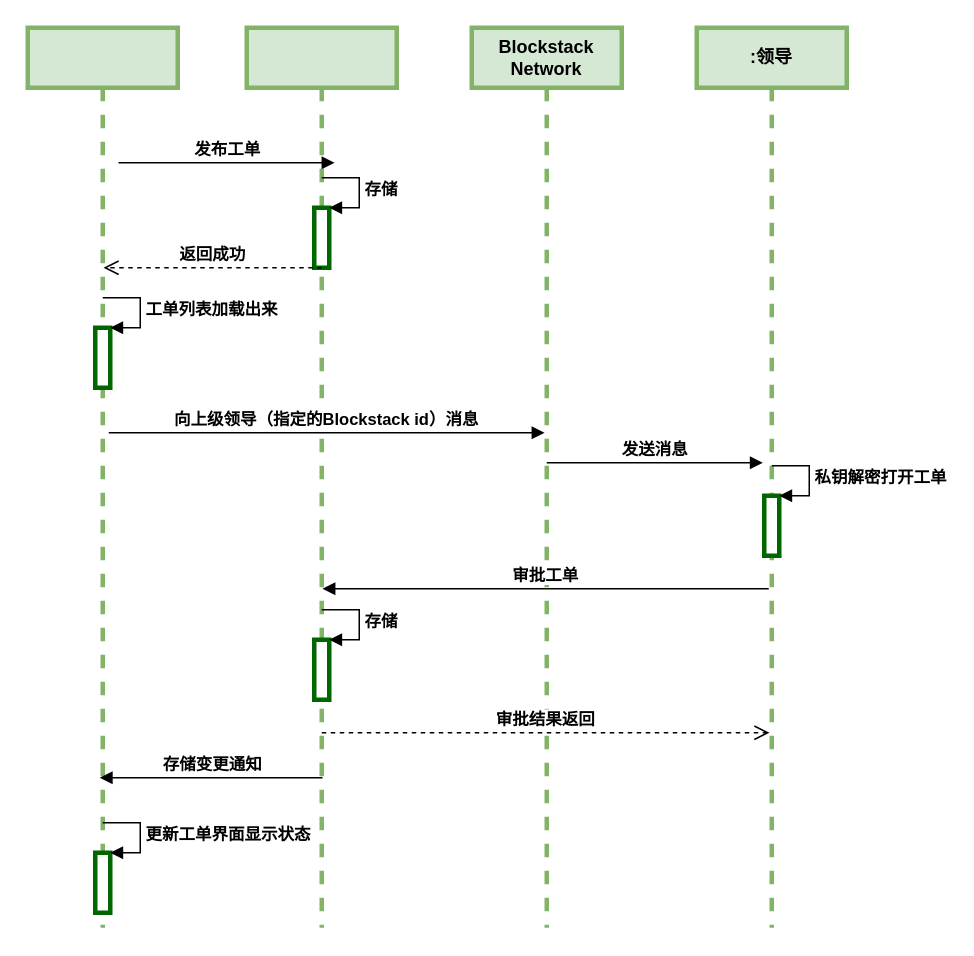
Some shapes in this 974 by 956 pixel diagram are drawn without their labels. Each missing label, with the centre of its shape:
":下属" goes at (102,477).
"Gaia存储" goes at (321,477).
